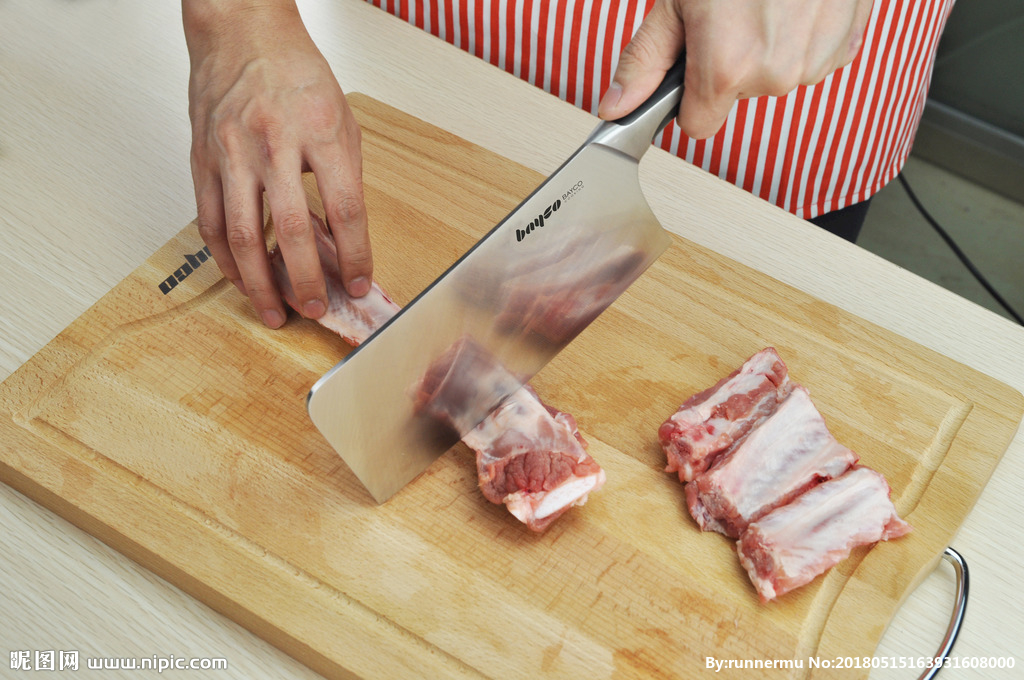knief: (299, 109, 713, 529)
